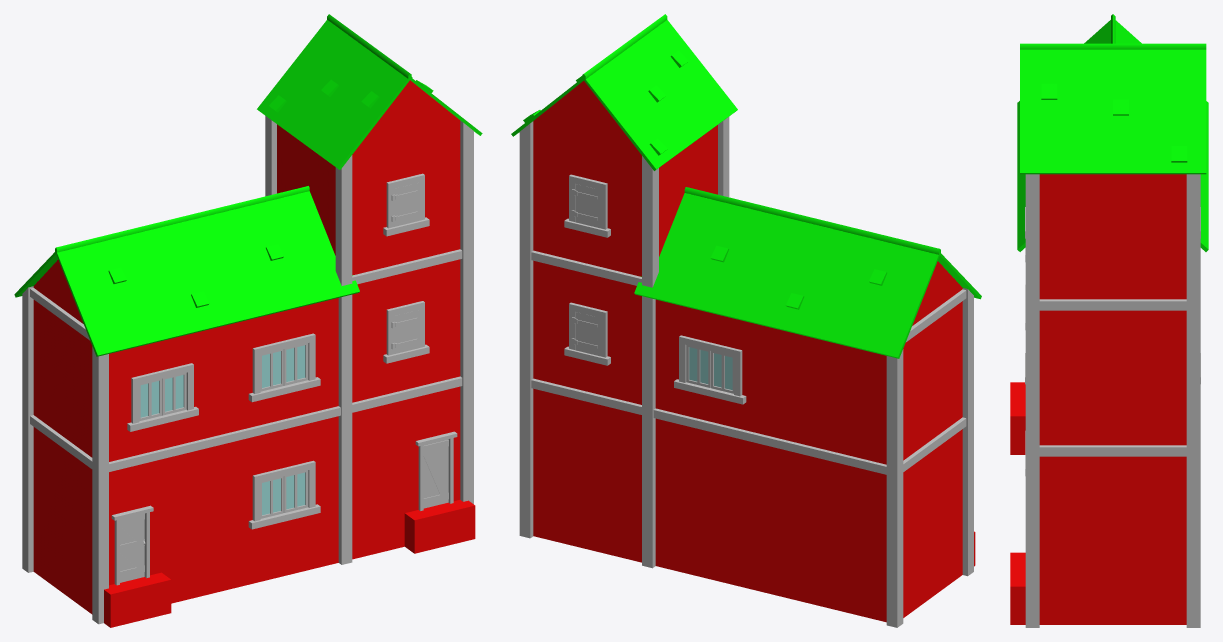
Rendered from House_3f_1.fbx.
The picture shows the model from 3 angles, left to right: view 1: azimuth 30°, elevation 25°; view 2: azimuth 150°, elevation 25°; view 3: azimuth 270°, elevation 25°; orthographic projection. The views are drawn at different scales.
Visible parts, largest first — view 1: House_3f_1; view 2: House_3f_1; view 3: House_3f_1.
Boxes of the visible parts, x1,y1,x2,y2 form: House_3f_1: [14, 14, 482, 627]; House_3f_1: [511, 14, 981, 627]; House_3f_1: [1010, 14, 1208, 627].
Size of what is drawn, in the model's own units: 12.69 by 15 by 4.93.
